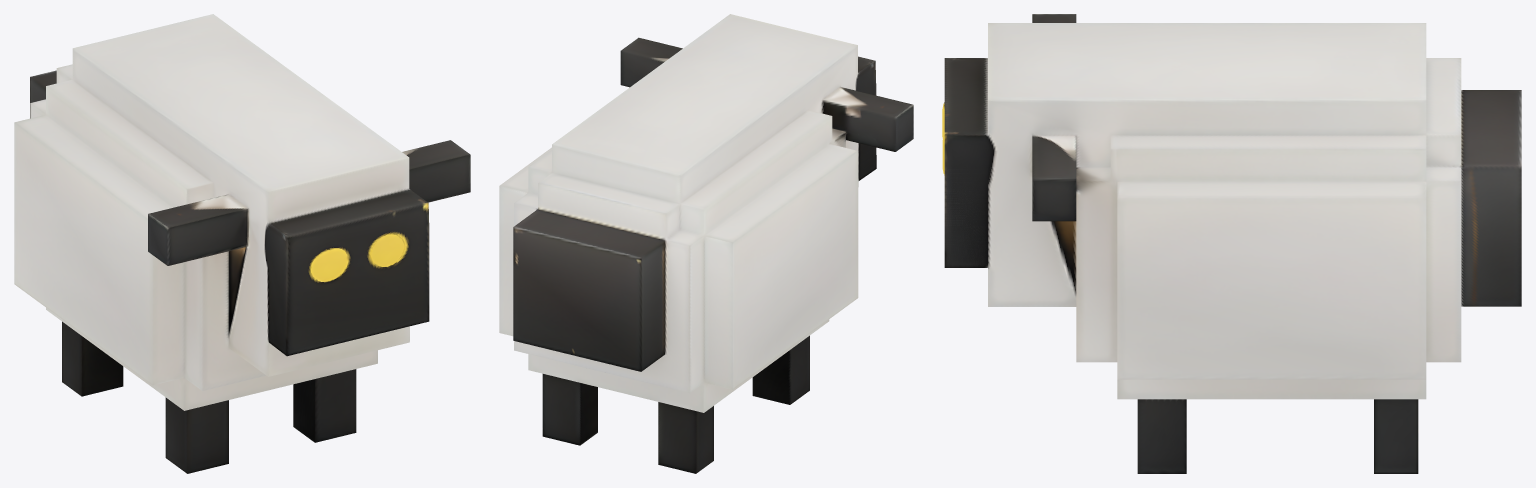
File: base_basic_shaded.fbx
3 renders of one model, left to right at view 1: azimuth 30°, elevation 25°; view 2: azimuth 150°, elevation 25°; view 3: azimuth 270°, elevation 25°, orthographic. The views are drawn at different scales.
Visible parts, largest first — view 1: model; view 2: model; view 3: model.
Part boxes in pixels (x1,y1,x2,y2): model: (14,14,470,473); model: (499,14,913,473); model: (942,14,1521,473).
Size of the model in its own units: 128 by 133 by 190.
